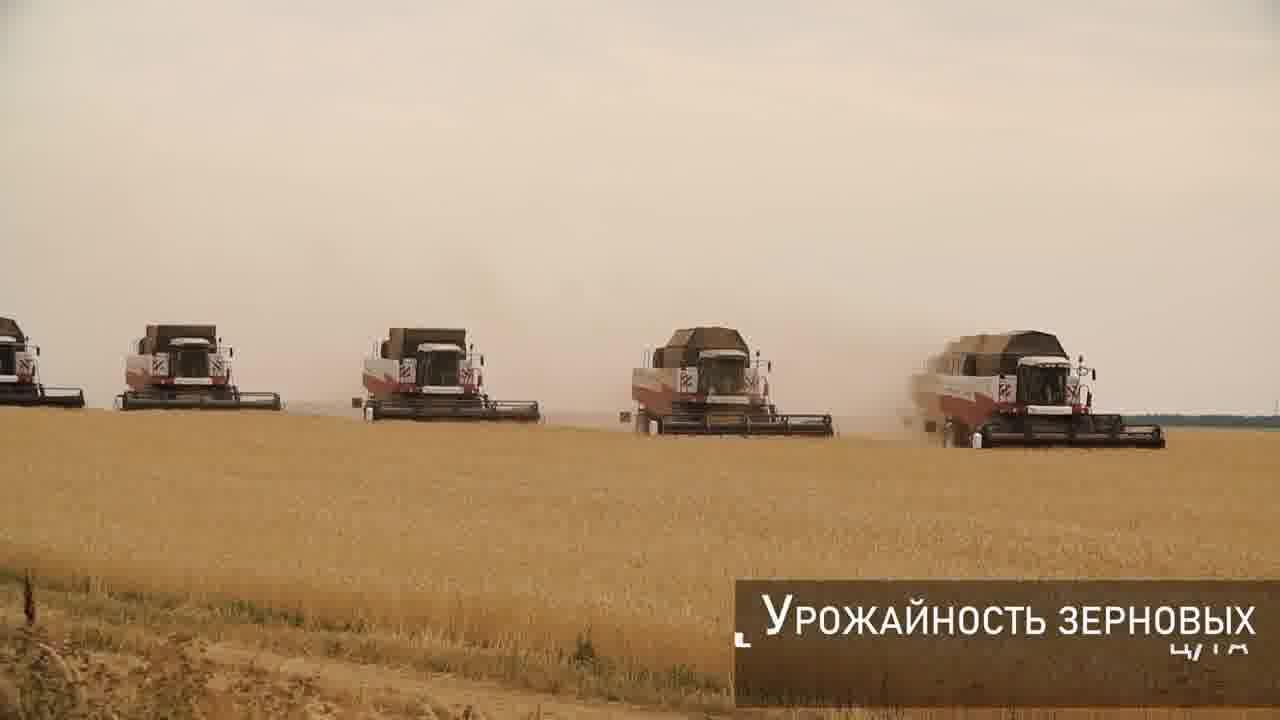combine harvester: (903, 322, 1177, 454), (611, 322, 839, 441), (349, 321, 548, 425), (107, 321, 288, 417), (0, 306, 93, 414)
